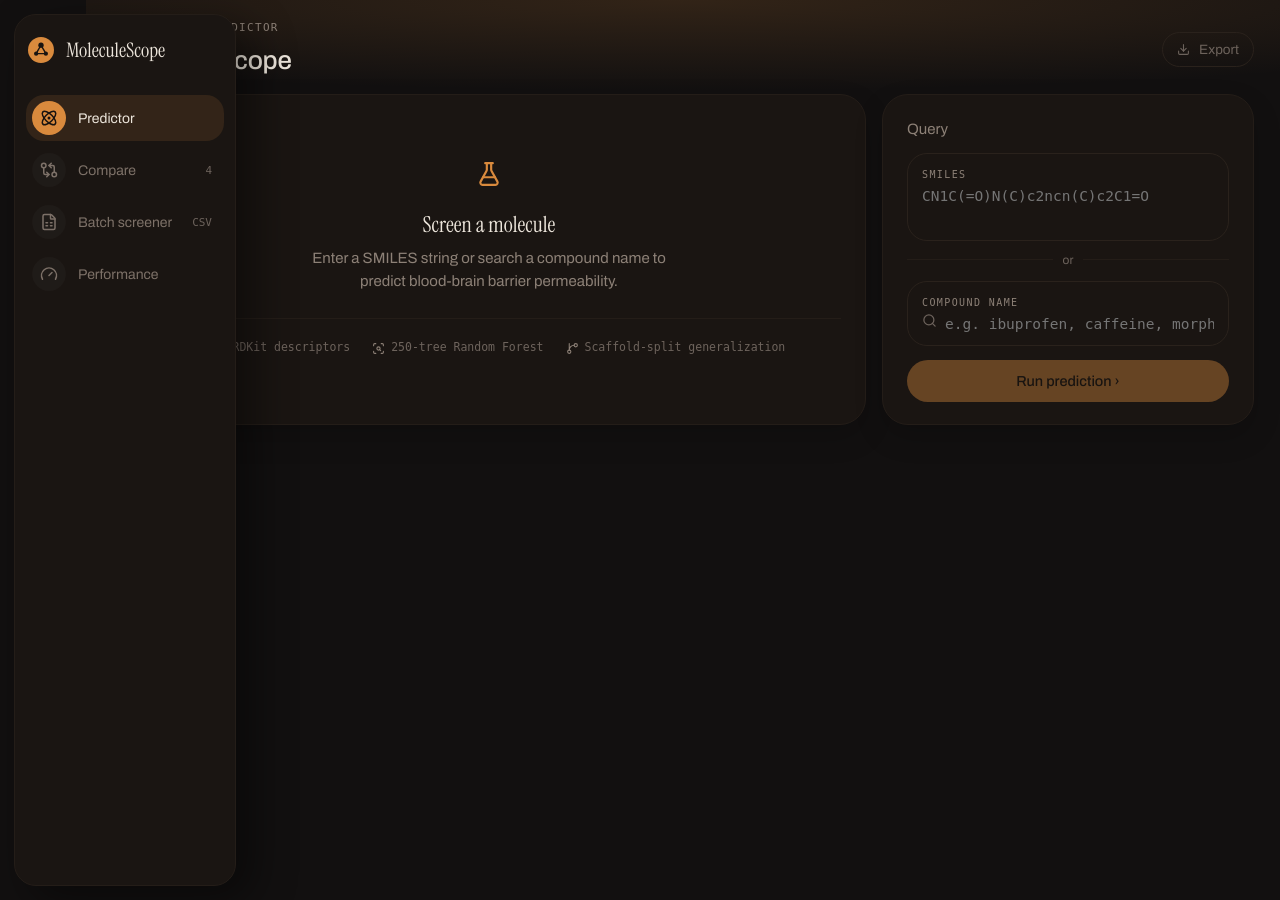
it: MoleculeScope Frontend Unit Tests › 10. HTTP 400 error returns and displays a friendly warning message
Type "NOT_A_SMILES" into the text box with id "smiles-input".
click(1068, 200); type("NOT_A_SMILES")  # box x1=922 y1=182 x2=1214 y2=220
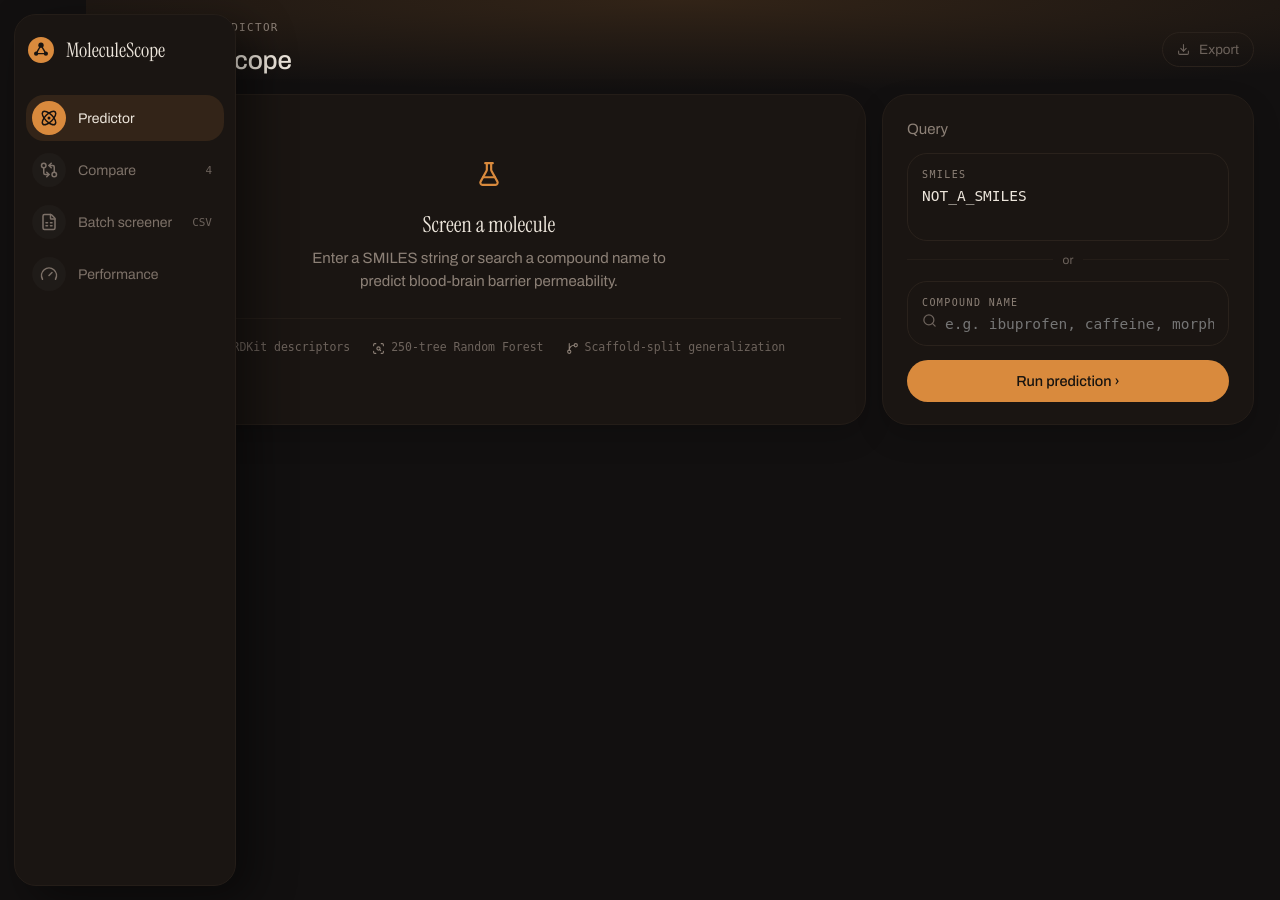
Click the button "Run prediction ›".
click(1068, 380)  # box x1=907 y1=360 x2=1229 y2=402
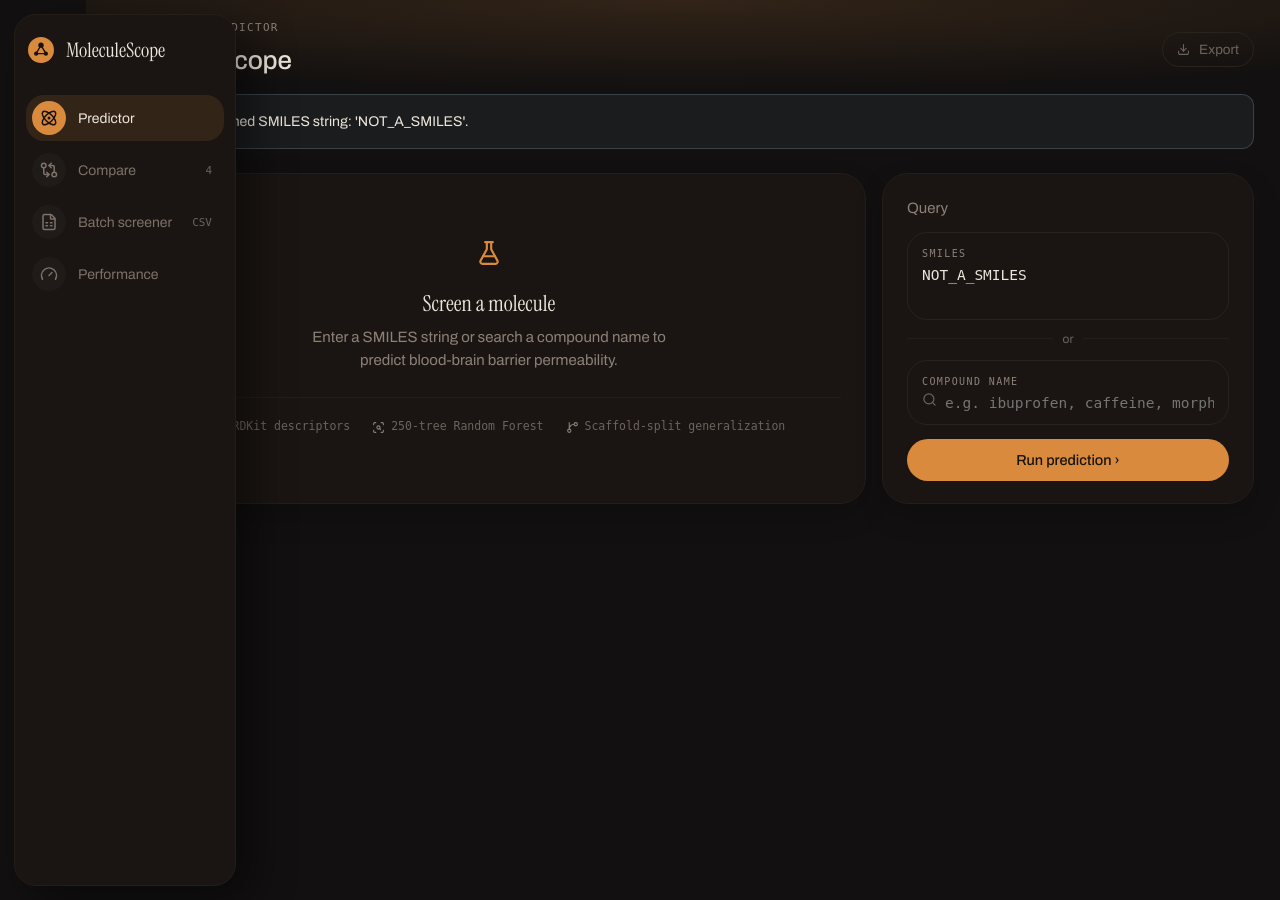
Check: the text "Invalid or malformed SMILES string: 'NOT_A_SMILES'." is shown, box x1=129 y1=110 x2=469 y2=132
